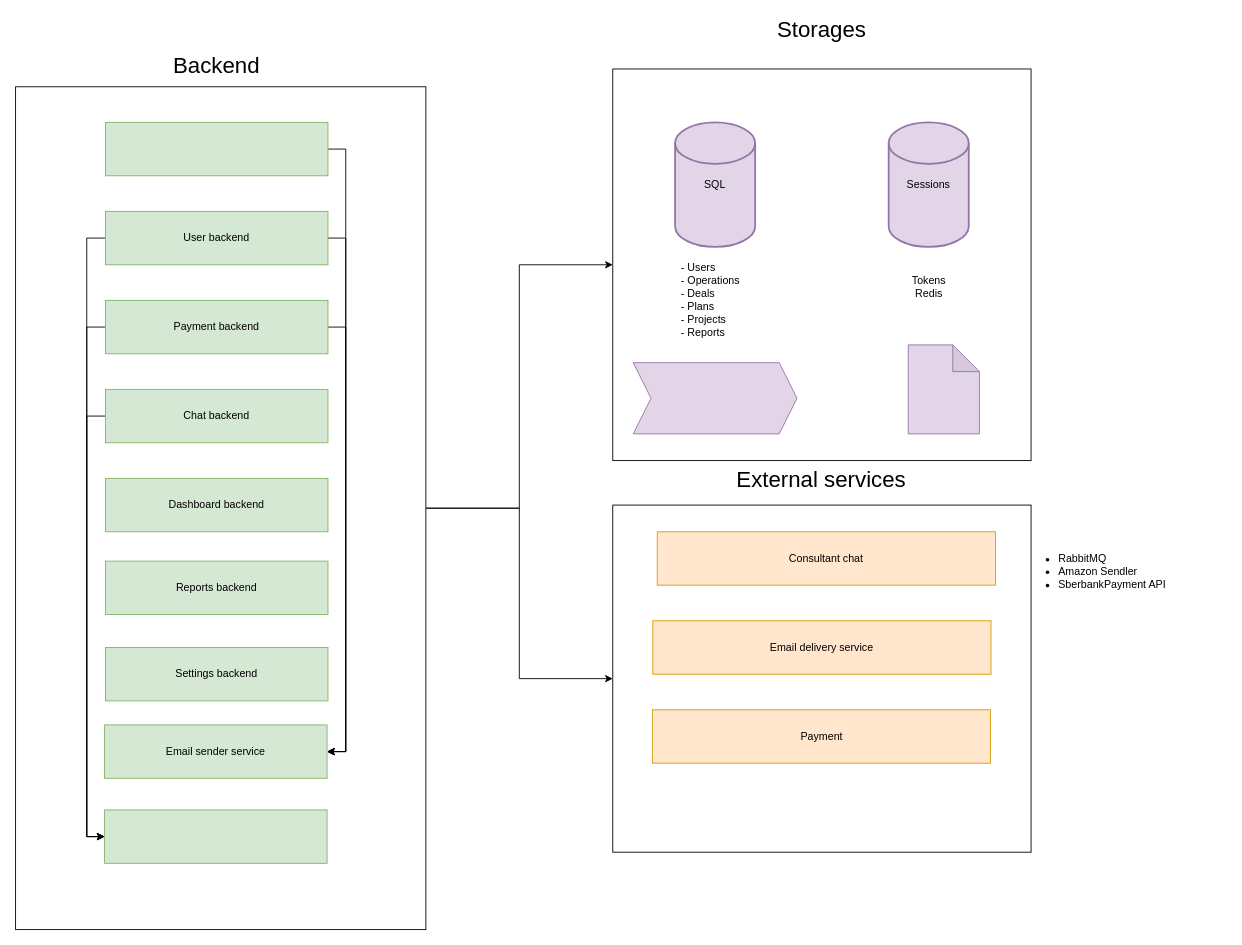
This 1242x945 diagram has some shape labels left out. The shapes that lost their labels are listed below. From the top down, each one's centre as x and y in pixels, then its label:
pixel 216 148: Authentification REST API
pixel 714 398: Message Broker
pixel 943 389: File storage
pixel 215 836: Notification service
